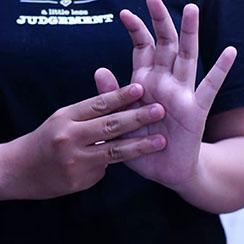M: (1, 0, 241, 243)
